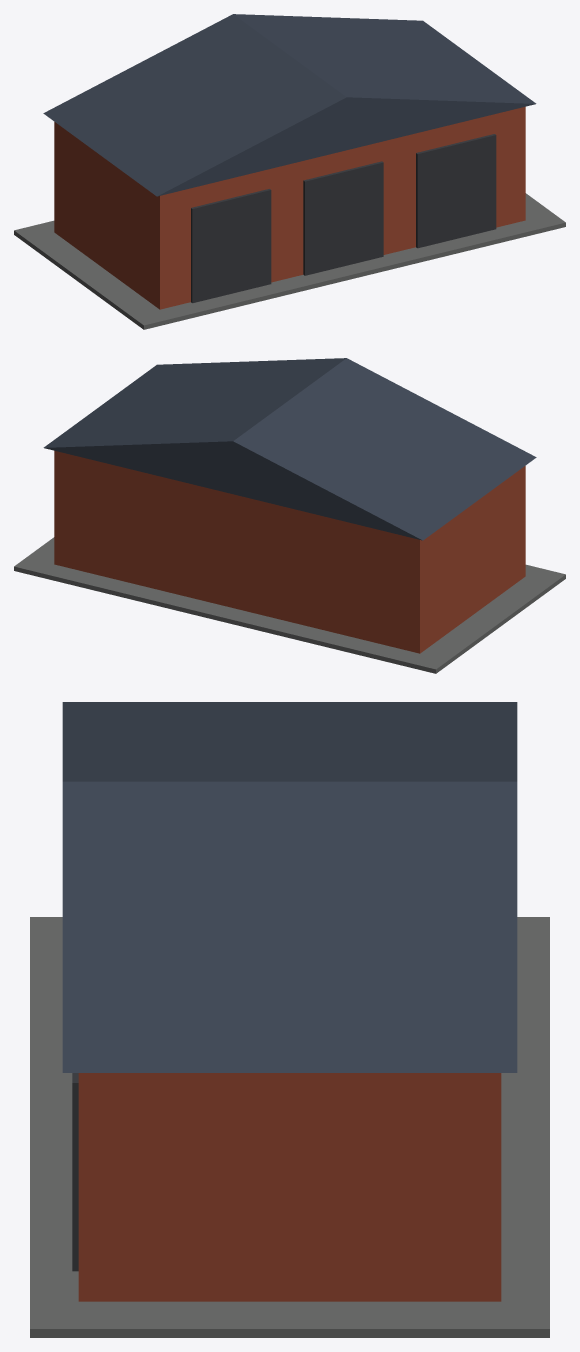
The model's file is bld_special_warehouse_a05_lod2.glb.
3 renders of one model, top to bottom at view 1: azimuth 30°, elevation 25°; view 2: azimuth 150°, elevation 25°; view 3: azimuth 270°, elevation 25°, orthographic. The views are drawn at different scales.
Visible parts, largest first — view 1: body; view 2: body; view 3: body.
Boxes of the visible parts, x1,y1,x2,y2 form: body: (14, 14, 565, 329); body: (14, 358, 565, 673); body: (30, 702, 549, 1337).
Size of the model in its own units: 15 by 5.95 by 8.
